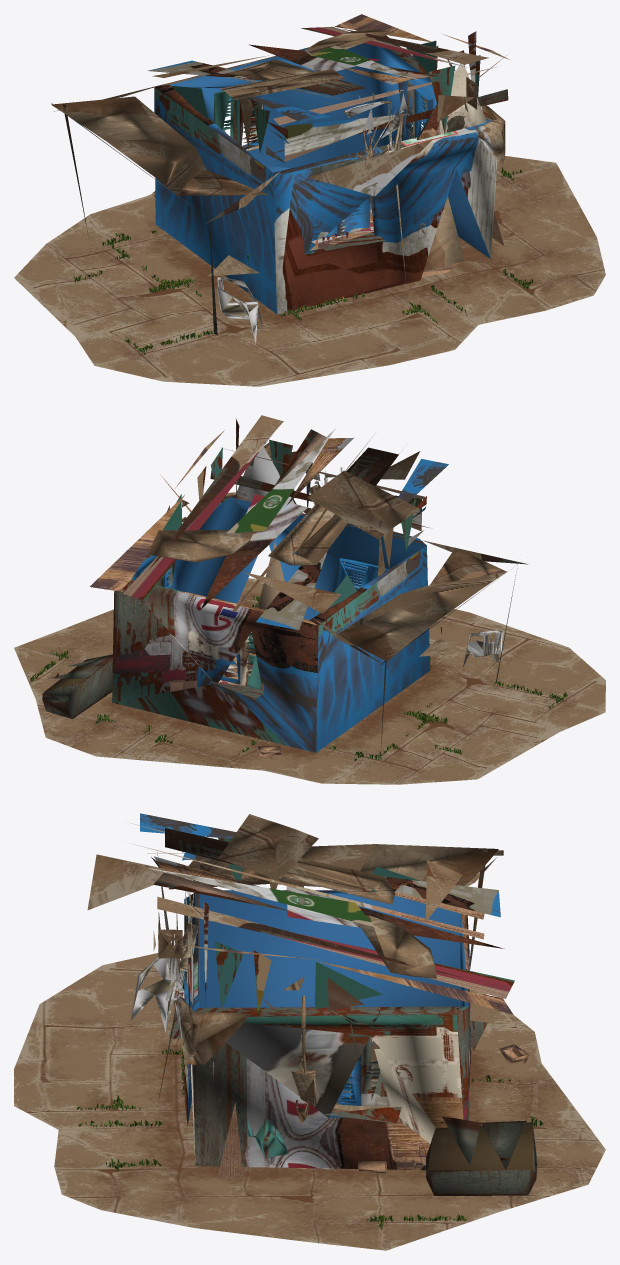
The model's file is tarp_shack.glb.
3 renders of one model, top to bottom at view 1: azimuth 30°, elevation 25°; view 2: azimuth 150°, elevation 25°; view 3: azimuth 270°, elevation 25°, orthographic. The views are drawn at different scales.
Parts seen in each view (by area): view 1: tarp_shack; view 2: tarp_shack; view 3: tarp_shack.
Part boxes in pixels (x1,y1,x2,y2): tarp_shack: (14, 14, 605, 386); tarp_shack: (14, 415, 605, 784); tarp_shack: (14, 813, 605, 1250).
Bounding box in the file's own units: 6.62 × 2.66 × 5.43.
3 materials, 3 textured.
